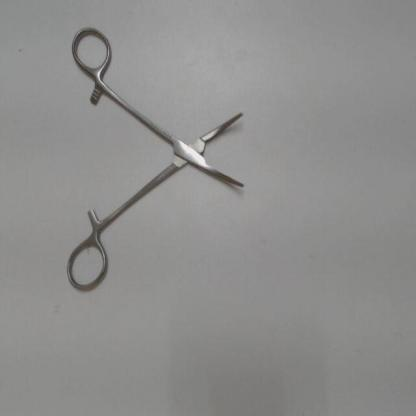Crile Artery Forceps: (61, 17, 258, 298)
